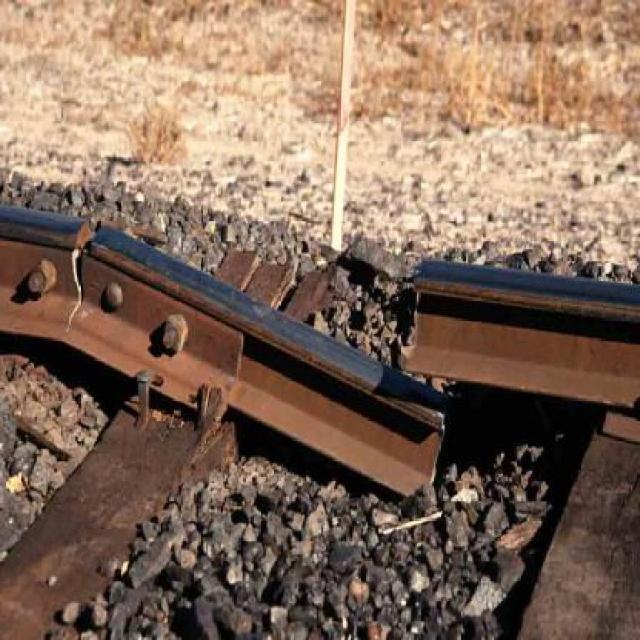defective: (0, 111, 640, 571)
